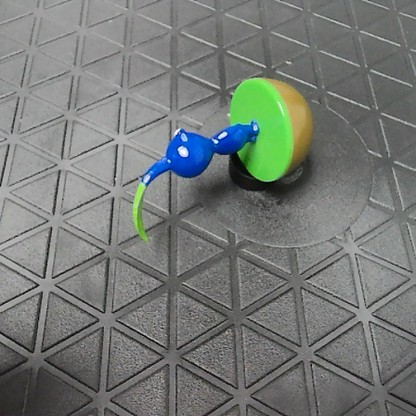leafairy: (132, 80, 311, 246)
